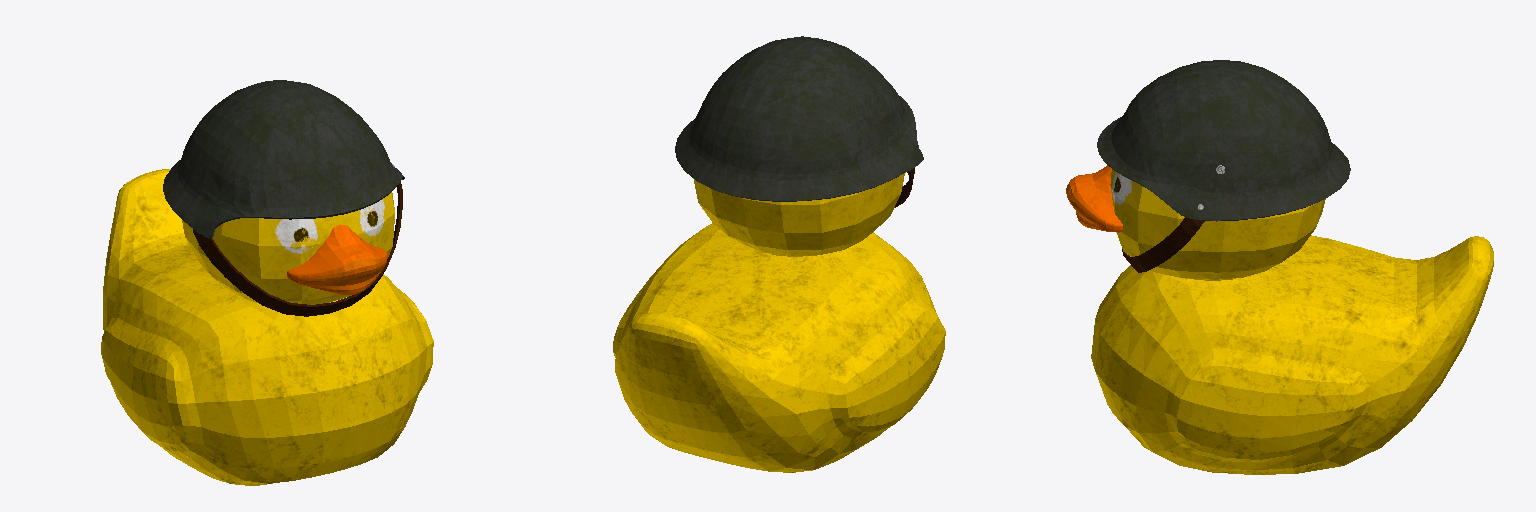
3 renders of one model, left to right at view 1: azimuth 30°, elevation 25°; view 2: azimuth 150°, elevation 25°; view 3: azimuth 270°, elevation 25°, orthographic.
Parts seen in each view (by area): view 1: Sketchfab_Model; view 2: Sketchfab_Model; view 3: Sketchfab_Model.
Part boxes in pixels (x1,y1,x2,y2): Sketchfab_Model: (101, 80, 433, 485); Sketchfab_Model: (613, 36, 945, 472); Sketchfab_Model: (1066, 60, 1493, 474).
Size of the model in its own units: 0.6862 by 0.9197 by 0.95.
Materials: 1 (1 with a texture image).